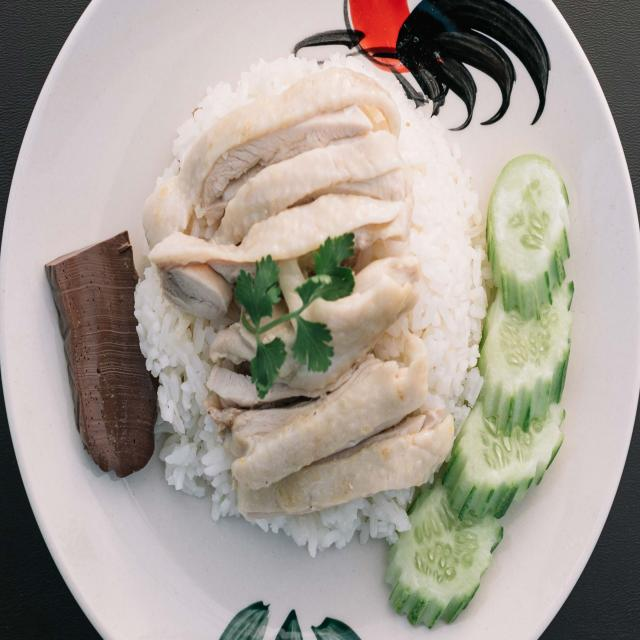Hainanese chicken rice: (125, 68, 588, 602)
carb: (377, 109, 482, 386), (125, 247, 223, 482)
meat: (213, 127, 366, 469)
vegetable: (490, 201, 576, 578)
